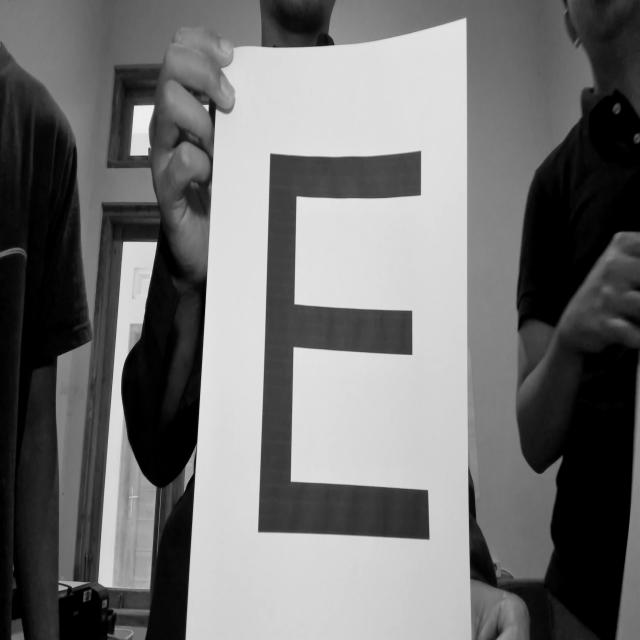e: (250, 135, 440, 566)
